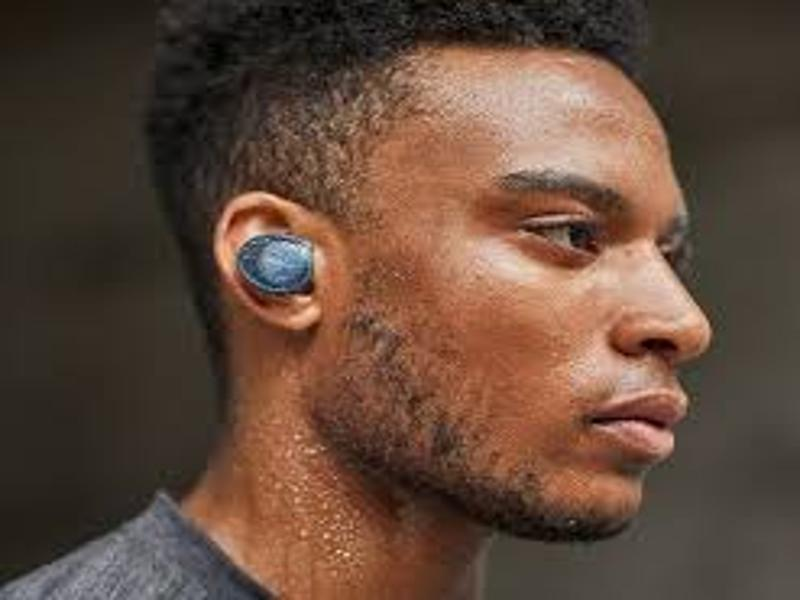headphone: (237, 234, 319, 296)
